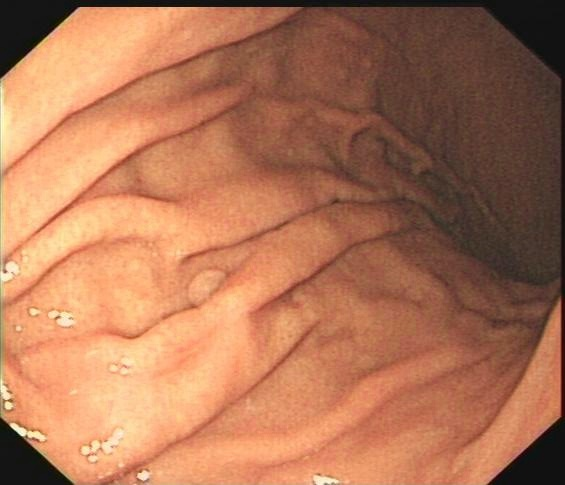Polyp: (170, 259, 239, 313)
